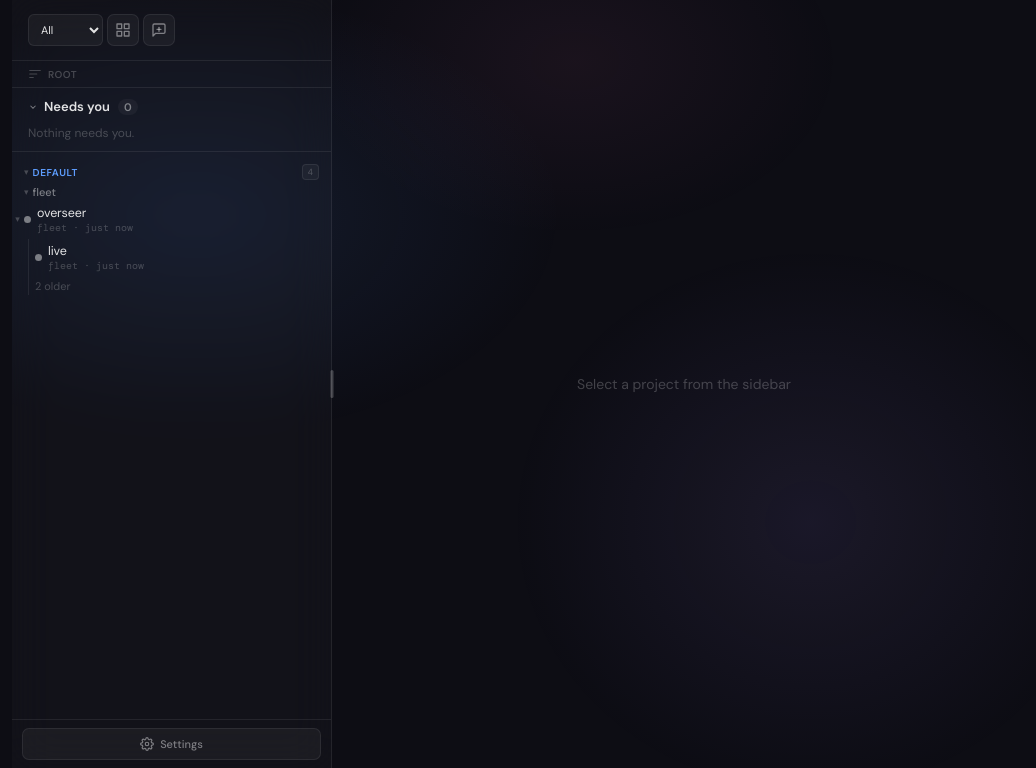
Test: quiet children of an open parent › fold under "N older" within the parent, one tap from shown
Step 1. Click the button "2 older" → {"x": 53, "y": 286}, box [29,277,76,295]
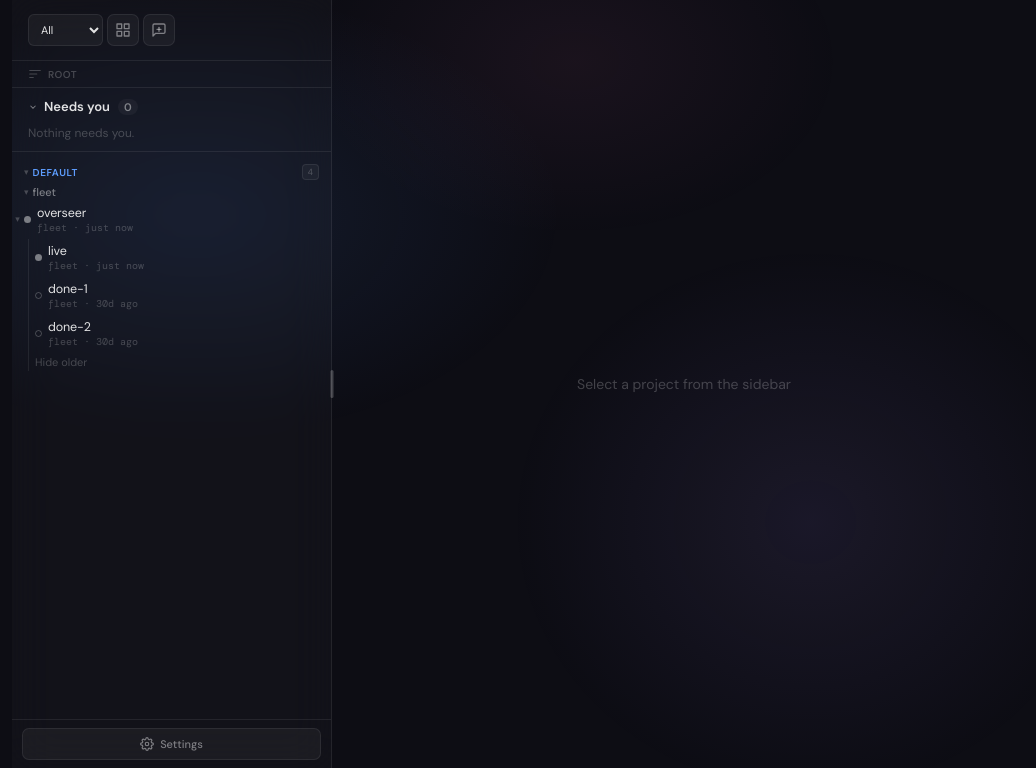
Result: the button "Hide older" is shown at [29,353,93,371]
